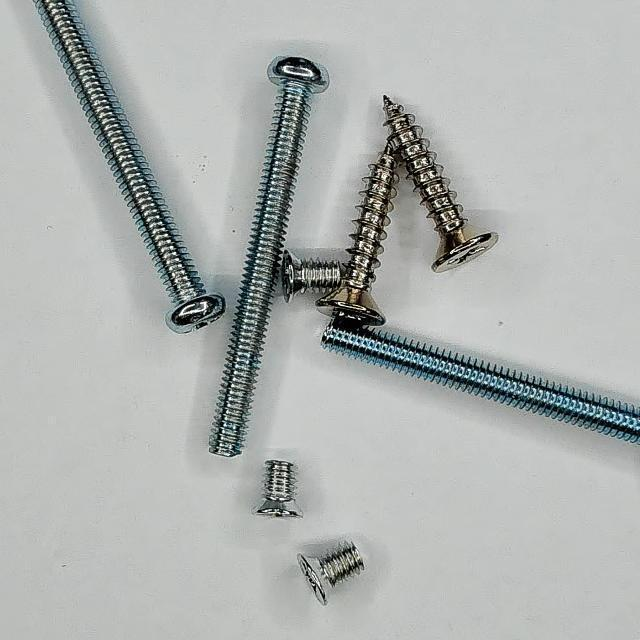Screw: (36, 0, 225, 334), (209, 56, 329, 458), (322, 321, 640, 444), (384, 96, 493, 272), (317, 137, 398, 326), (298, 542, 365, 606), (282, 251, 343, 302), (257, 461, 303, 518)
